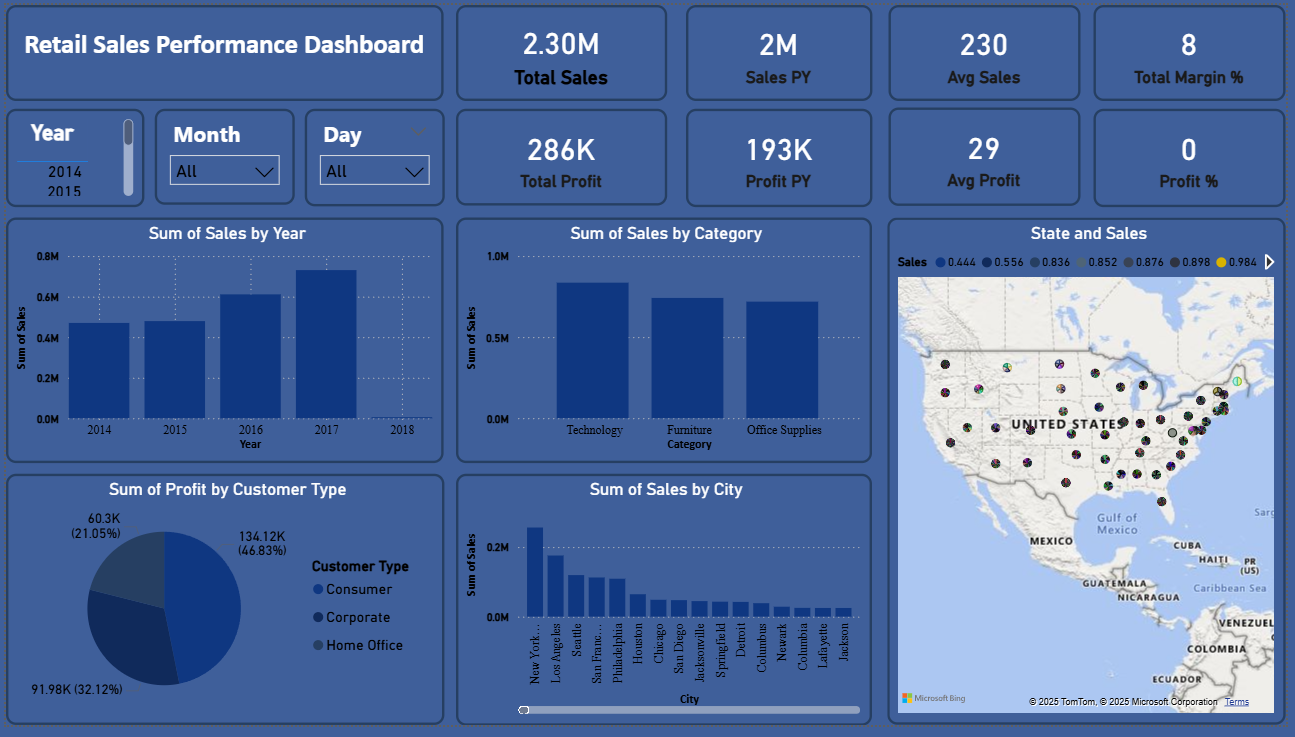

The page's visual inventory and layout, read from the dashboard file:
{"tool":"powerbi","page":{"name":"Retail Sales Performance","canvas":[1280,720],"ordinal":0},"visuals":[{"type":"textbox","box":[0,0,437.5,96.2],"z":0},{"type":"slicer","fields":{"Values":["Orders.Month"]},"box":[148.8,103.8,140,96.2],"z":1000},{"type":"slicer","fields":{"Values":["Orders.Day"]},"box":[298.8,103.8,140,97.5],"z":2000},{"type":"card","fields":{"Values":["Orders.total sales"]},"box":[450,0,211.4,95.7],"z":3000},{"type":"card","fields":{"Values":["Orders.Sales PY"]},"box":[680,0,186,96],"z":4000},{"type":"card","fields":{"Values":["Orders.TOTAL PROFIT"]},"box":[450,104.3,211.4,97.1],"z":5000},{"type":"card","fields":{"Values":["Orders.Profit PY"]},"box":[680,104,186,98],"z":6000},{"type":"card","fields":{"Values":["Orders.Avg profit"]},"box":[882,102,192,98],"z":7000},{"type":"card","fields":{"Values":["Orders.AVG SALES"]},"box":[882,0,192,96],"z":8000},{"type":"card","fields":{"Values":["Orders.TOTAL MARGIN %"]},"box":[1088,0,192,96],"z":9000},{"type":"card","fields":{"Values":["Orders.Profit %"]},"box":[1088,104,192,98],"z":10000},{"type":"columnChart","fields":{"Category":["Orders.City"],"Y":["Sum(Orders.Sales)"]},"box":[450,468.3,415.8,251.9],"z":11000},{"type":"columnChart","fields":{"Y":["Sum(Orders.Sales)"],"Category":["Orders.Category"]},"box":[450,212.9,415.7,245.7],"z":12000},{"type":"columnChart","fields":{"Y":["Sum(Orders.Sales)"],"Category":["Orders.Year"]},"box":[0,212.8,437.8,245.8],"z":13000},{"type":"pieChart","fields":{"Category":["Orders.Segment"],"Y":["Sum(Orders.Profit)"]},"box":[0,468.6,438.6,251.4],"z":14000},{"type":"map","fields":{"Category":["Orders.State","Orders.Country"],"Series":["Orders.Sales"]},"box":[881.4,212.9,398.6,507.1],"z":15000},{"type":"tableEx","fields":{"Values":["Orders.Year"]},"box":[0,104.3,138.6,98.6],"z":16000}]}

Visuals, with their boxes in screenshot pixels (x1, y1, x2, y2), scaled from the page's 1280x720 canvas onto the 1295x737 screenshot:
textbox: [0,0,443,98]
slicer - Orders.Month: [151,106,292,205]
slicer - Orders.Day: [302,106,444,206]
card - Orders.total sales: [455,0,669,98]
card - Orders.Sales PY: [688,0,876,98]
card - Orders.TOTAL PROFIT: [455,107,669,206]
card - Orders.Profit PY: [688,106,876,207]
card - Orders.Avg profit: [892,104,1087,205]
card - Orders.AVG SALES: [892,0,1087,98]
card - Orders.TOTAL MARGIN %: [1101,0,1294,98]
card - Orders.Profit %: [1101,106,1294,207]
columnChart - Orders.City x Sum(Orders.Sales): [455,479,876,736]
columnChart - Sum(Orders.Sales) x Orders.Category: [455,218,876,469]
columnChart - Sum(Orders.Sales) x Orders.Year: [0,218,443,469]
pieChart - Orders.Segment x Sum(Orders.Profit): [0,480,444,736]
map - Orders.State x Orders.Country: [892,218,1294,736]
tableEx - Orders.Year: [0,107,140,208]
